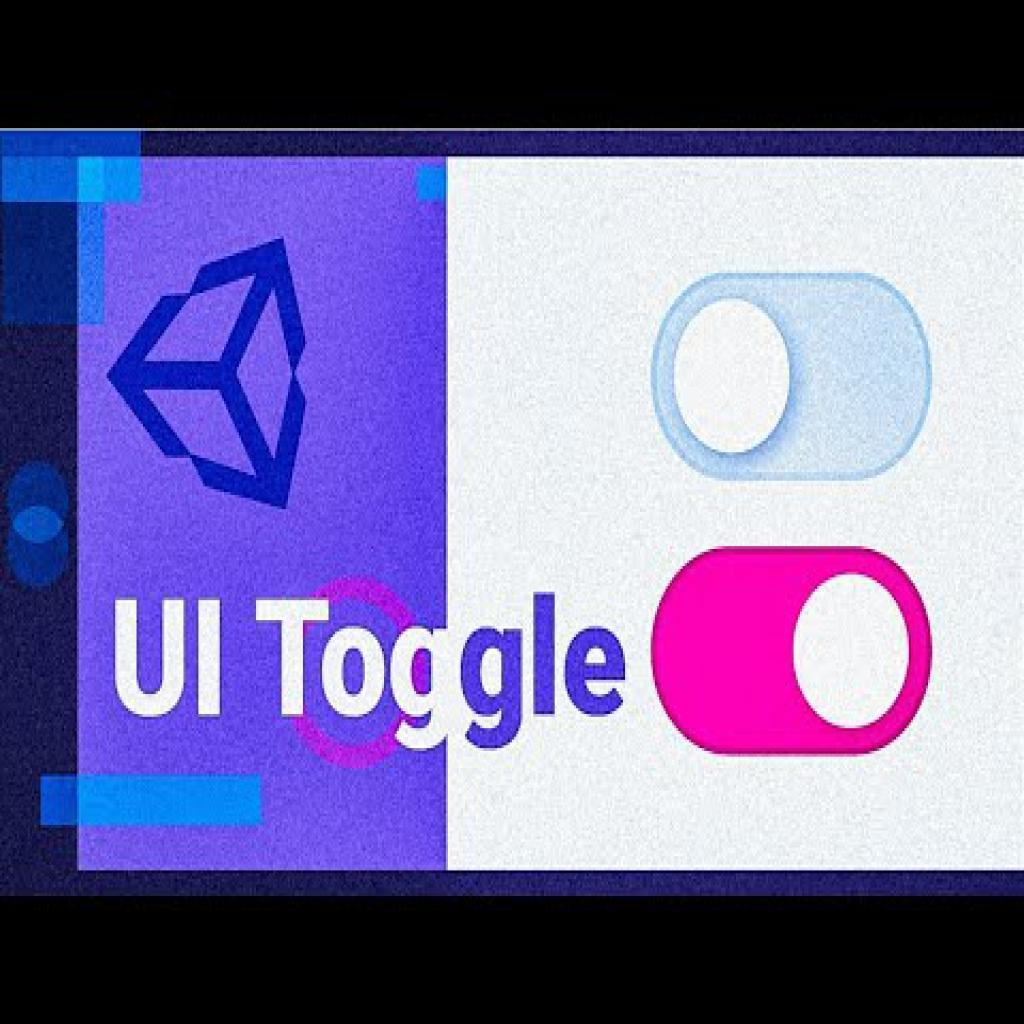switch: (654, 547, 936, 757), (652, 272, 933, 481)
